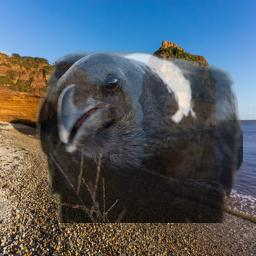Crow: (36, 50, 243, 223)
